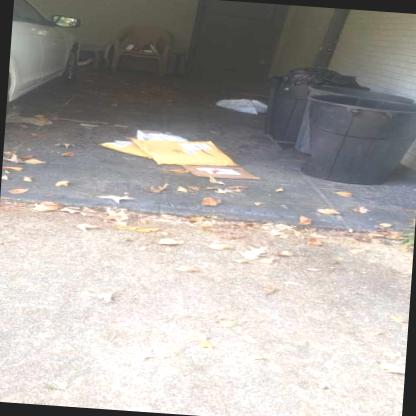envelope: (127, 136, 236, 167), (180, 161, 264, 181)
